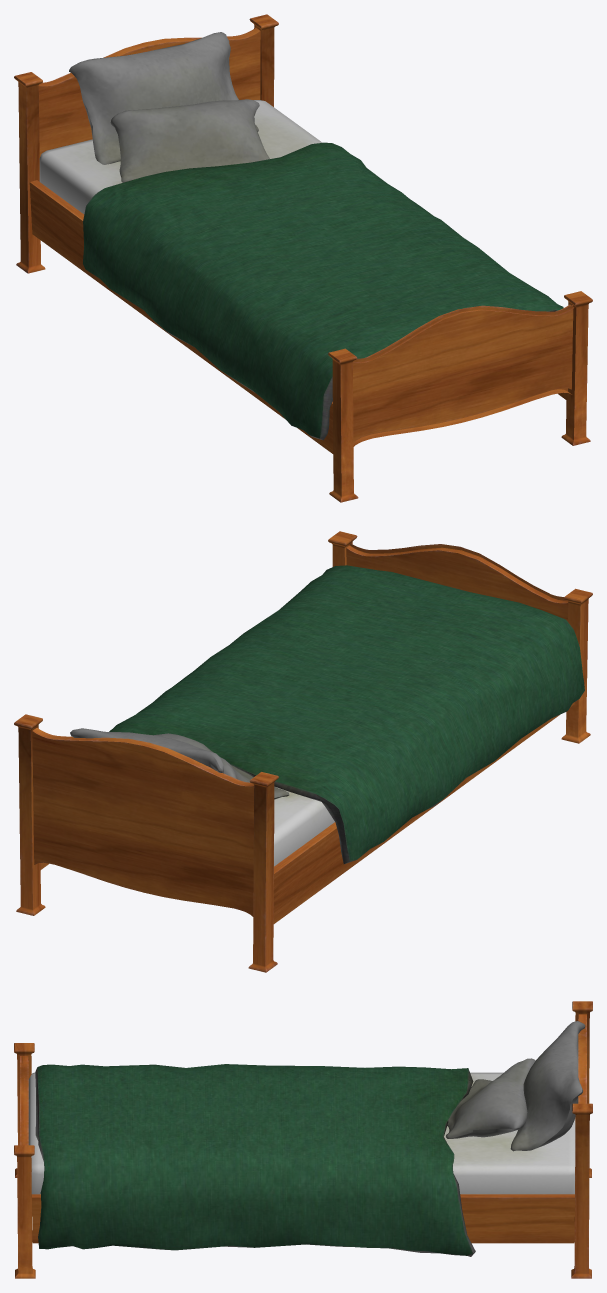
The model's file is singlebed.fbx.
3 views of the same model, one above another, from view 1: azimuth 30°, elevation 25°; view 2: azimuth 150°, elevation 25°; view 3: azimuth 270°, elevation 25° (orthographic). The views are drawn at different scales.
Parts seen in each view (by area): view 1: Bed.072; view 2: Bed.072; view 3: Bed.072.
Part boxes in pixels (box(x1,y1,x2,y2)): Bed.072: box(14, 14, 592, 502); Bed.072: box(14, 531, 592, 972); Bed.072: box(14, 1001, 592, 1278).
Bounding box in the file's own units: 91.44 × 60.96 × 183.
1 material, 1 textured.
